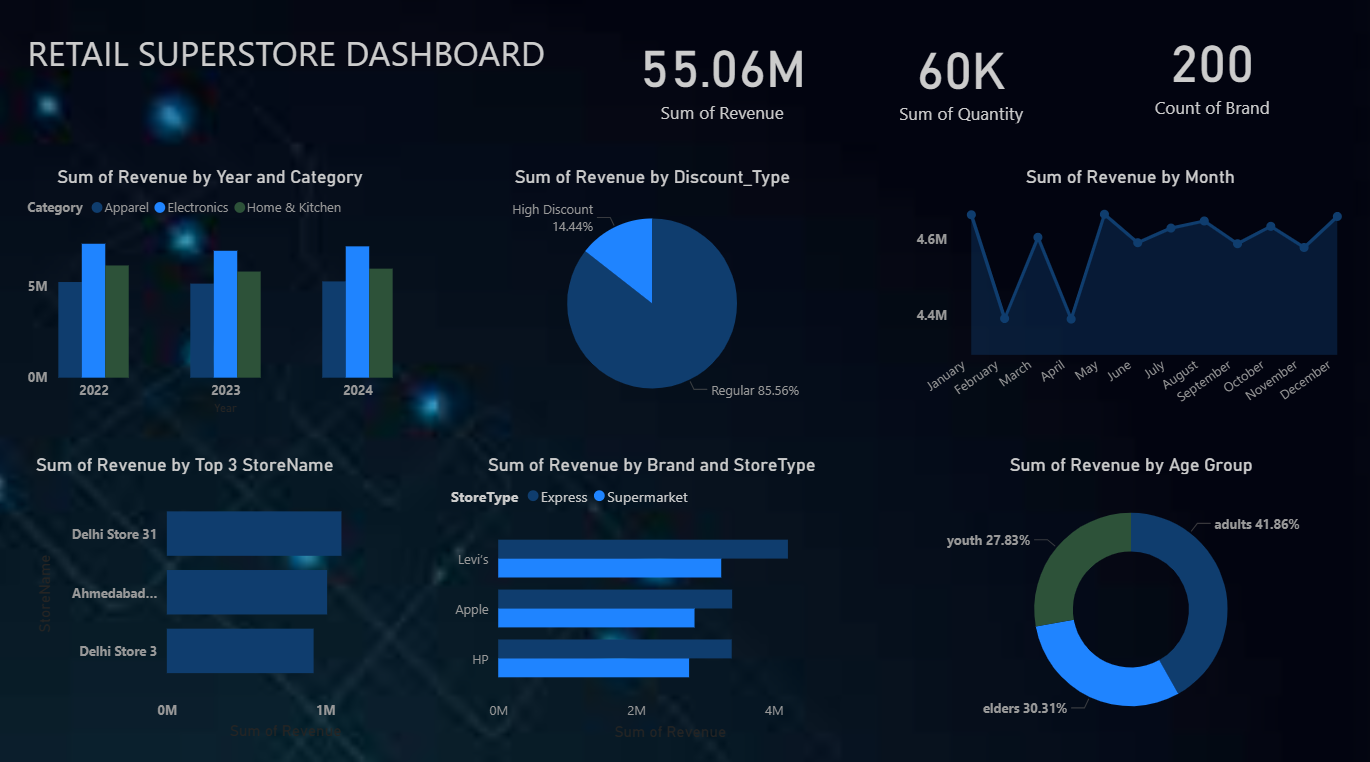

The page's visual inventory and layout, read from the dashboard file:
{"tool":"powerbi","page":{"name":"Page 1","canvas":[1280,720],"ordinal":0},"visuals":[{"type":"clusteredColumnChart","fields":{"Series":["Products.Category"],"Y":["Sum(Sales.Revenue)"],"Category":["Sales.OrderDate.Variation.Date Hierarchy.Year"]},"box":[23.8,158.3,350,236.9],"z":0},{"type":"areaChart","fields":{"Y":["Sum(Sales.Revenue)"],"Category":["Sales.OrderDate.Variation.Date Hierarchy.Month"]},"box":[844.1,158.3,420.2,242.9],"z":1000},{"type":"pieChart","fields":{"Category":["Sales.Discount_Type"],"Y":["Sum(Sales.Revenue)"]},"box":[421.4,158.3,377.4,236.9],"z":2000},{"type":"barChart","title":"Sum of Revenue by Top 3 StoreName","fields":{"Y":["Sum(Sales.Revenue)"],"Category":["Stores.StoreName"]},"box":[31,425,367.9,271.4],"z":3000},{"type":"clusteredBarChart","fields":{"Y":["Sum(Sales.Revenue)"],"Category":["Products.Brand"],"Series":["Stores.StoreType"]},"box":[417.9,425,383.3,271.4],"z":4000},{"type":"donutChart","fields":{"Category":["Customers.Age Group"],"Y":["Sum(Sales.Revenue)"]},"box":[866.7,425,377.4,271.4],"z":5000},{"type":"textbox","box":[23.8,25,491.7,71.4],"z":6000},{"type":"card","fields":{"Values":["Sum(Sales.Revenue)"]},"box":[578.6,20.2,191.7,107.1],"z":7000},{"type":"card","fields":{"Values":["Sum(Sales.Quantity)"]},"box":[801.2,25,191.7,97.6],"z":8000},{"type":"card","fields":{"Values":["Sum(Sales.Discount (%))"]},"box":[1034.5,20.2,191.7,97.6],"z":9000}]}

Visuals, with their boxes in screenshot pixels (x1, y1, x2, y2), scaled from the page's 1280x720 canvas onto the 1370x762 screenshot:
clusteredColumnChart - Products.Category x Sum(Sales.Revenue): [x1=25, y1=168, x2=400, y2=418]
areaChart - Sum(Sales.Revenue) x Sales.OrderDate.Variation.Date Hierarchy.Month: [x1=903, y1=168, x2=1353, y2=425]
pieChart - Sales.Discount_Type x Sum(Sales.Revenue): [x1=451, y1=168, x2=855, y2=418]
"Sum of Revenue by Top 3 StoreName" barChart: [x1=33, y1=450, x2=427, y2=737]
clusteredBarChart - Sum(Sales.Revenue) x Products.Brand: [x1=447, y1=450, x2=858, y2=737]
donutChart - Customers.Age Group x Sum(Sales.Revenue): [x1=928, y1=450, x2=1332, y2=737]
textbox: [x1=25, y1=26, x2=552, y2=102]
card - Sum(Sales.Revenue): [x1=619, y1=21, x2=824, y2=135]
card - Sum(Sales.Quantity): [x1=858, y1=26, x2=1063, y2=130]
card - Sum(Sales.Discount (%)): [x1=1107, y1=21, x2=1312, y2=125]
